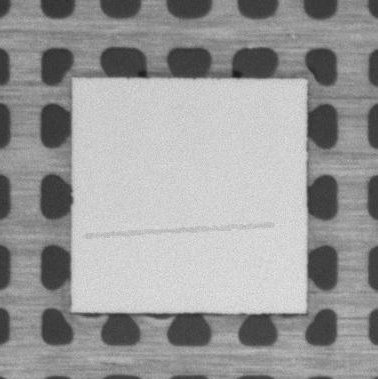DIE_CRACK: (85, 226, 272, 237)
